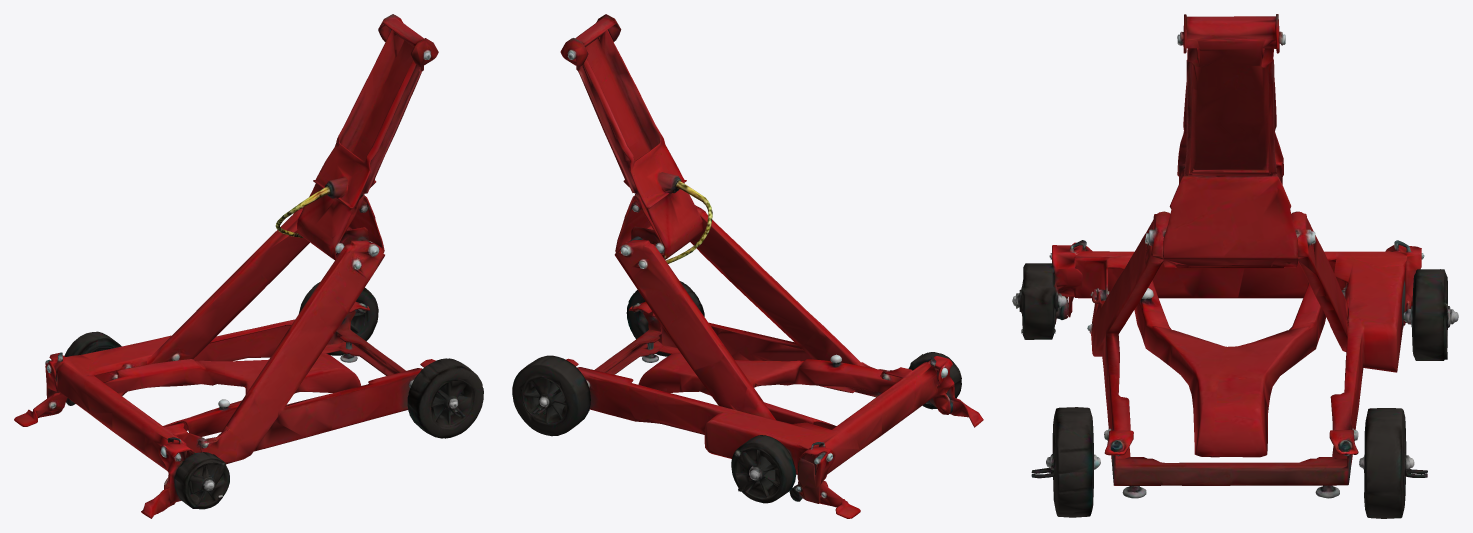
File: repairstand.glb
The picture shows the model from 3 angles, left to right: view 1: azimuth 30°, elevation 25°; view 2: azimuth 150°, elevation 25°; view 3: azimuth 270°, elevation 25°; orthographic projection. The views are drawn at different scales.
Visible parts, largest first — view 1: repairstand; view 2: repairstand; view 3: repairstand.
Boxes of the visible parts, left/top/right/bottom form: repairstand: left=14, top=14, right=483, bottom=518; repairstand: left=512, top=14, right=983, bottom=518; repairstand: left=1012, top=14, right=1458, bottom=518.
Size of the model in its own units: 0.976 by 0.9799 by 0.7729.
Materials: 1 (1 with a texture image).
